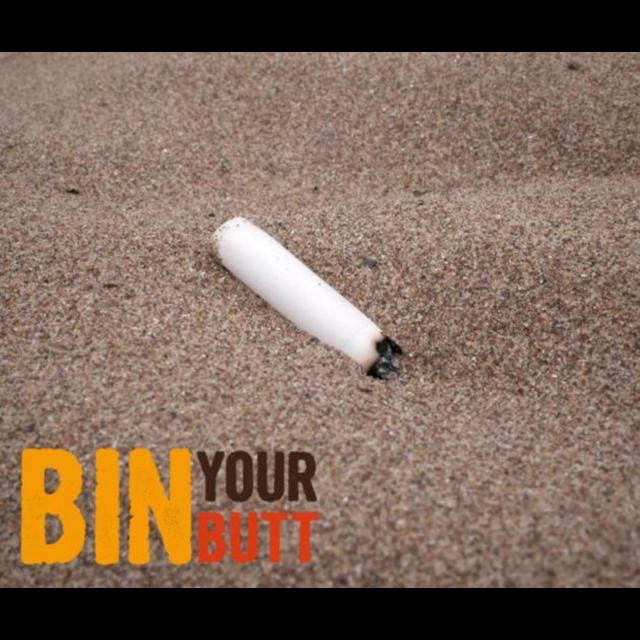cigarette: (214, 218, 404, 381)
